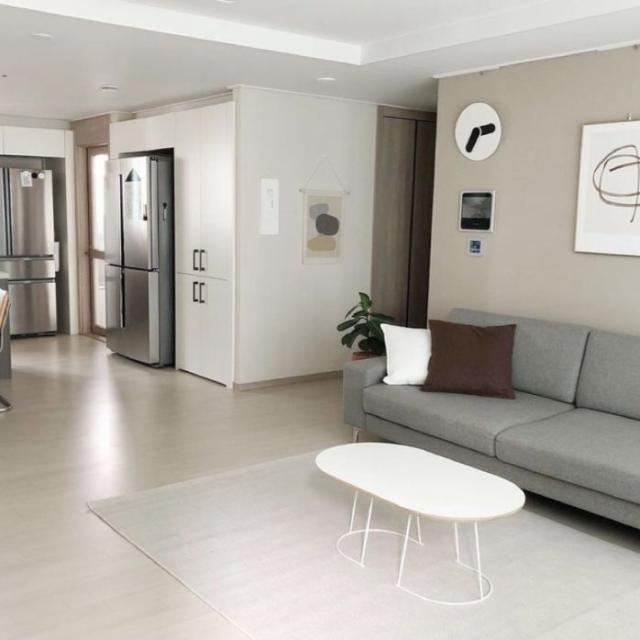obstacle: (341, 306, 639, 532), (314, 440, 526, 605), (104, 147, 176, 368)
